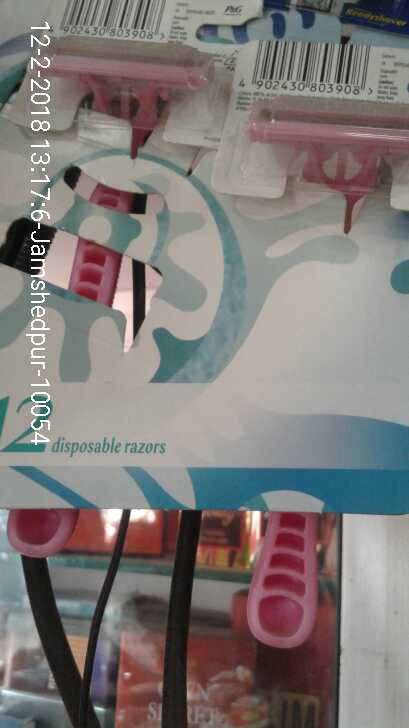reject: (148, 262, 318, 434)
